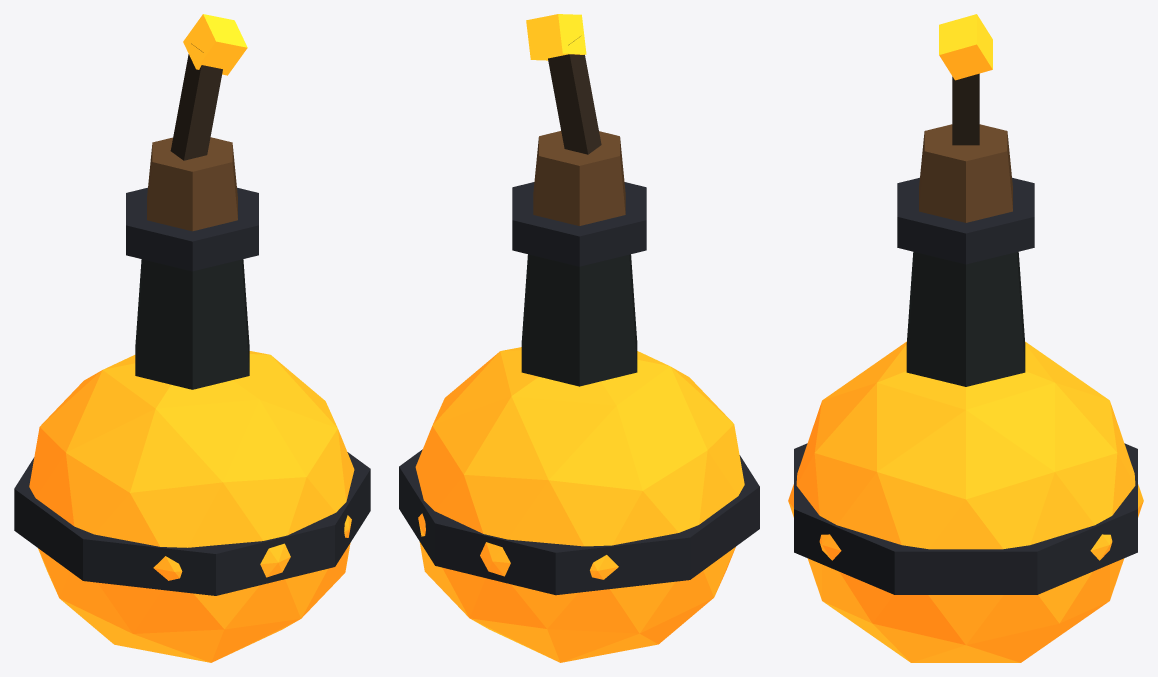
File: fire_flask.glb
3 renders of one model, left to right at view 1: azimuth 30°, elevation 25°; view 2: azimuth 150°, elevation 25°; view 3: azimuth 270°, elevation 25°, orthographic. The views are drawn at different scales.
Parts seen in each view (by area): view 1: Liquid, Band, Neck, Cork, Rim, Wick, Ember; view 2: Liquid, Band, Neck, Cork, Rim, Wick, Ember; view 3: Liquid, Band, Neck, Cork, Rim, Ember, Wick.
Boxes of the visible parts, x1,y1,x2,y2 form: Liquid: [29, 351, 354, 662]; Band: [14, 452, 370, 595]; Neck: [135, 259, 249, 389]; Cork: [147, 137, 237, 231]; Rim: [126, 187, 258, 271]; Wick: [170, 43, 222, 160]; Ember: [183, 14, 247, 75]; Liquid: [415, 347, 744, 662]; Band: [399, 449, 759, 595]; Neck: [521, 254, 637, 386]; Cork: [533, 131, 625, 225]; Rim: [512, 182, 646, 266]; Wick: [548, 36, 601, 154]; Ember: [526, 14, 586, 60]; Liquid: [788, 341, 1143, 662]; Band: [794, 443, 1137, 594]; Neck: [906, 251, 1025, 386]; Cork: [919, 124, 1012, 222]; Rim: [897, 177, 1034, 264]; Ember: [939, 14, 992, 80]; Wick: [952, 73, 979, 145].
Size of the model in its own units: 0.2513 by 0.5224 by 0.26.
